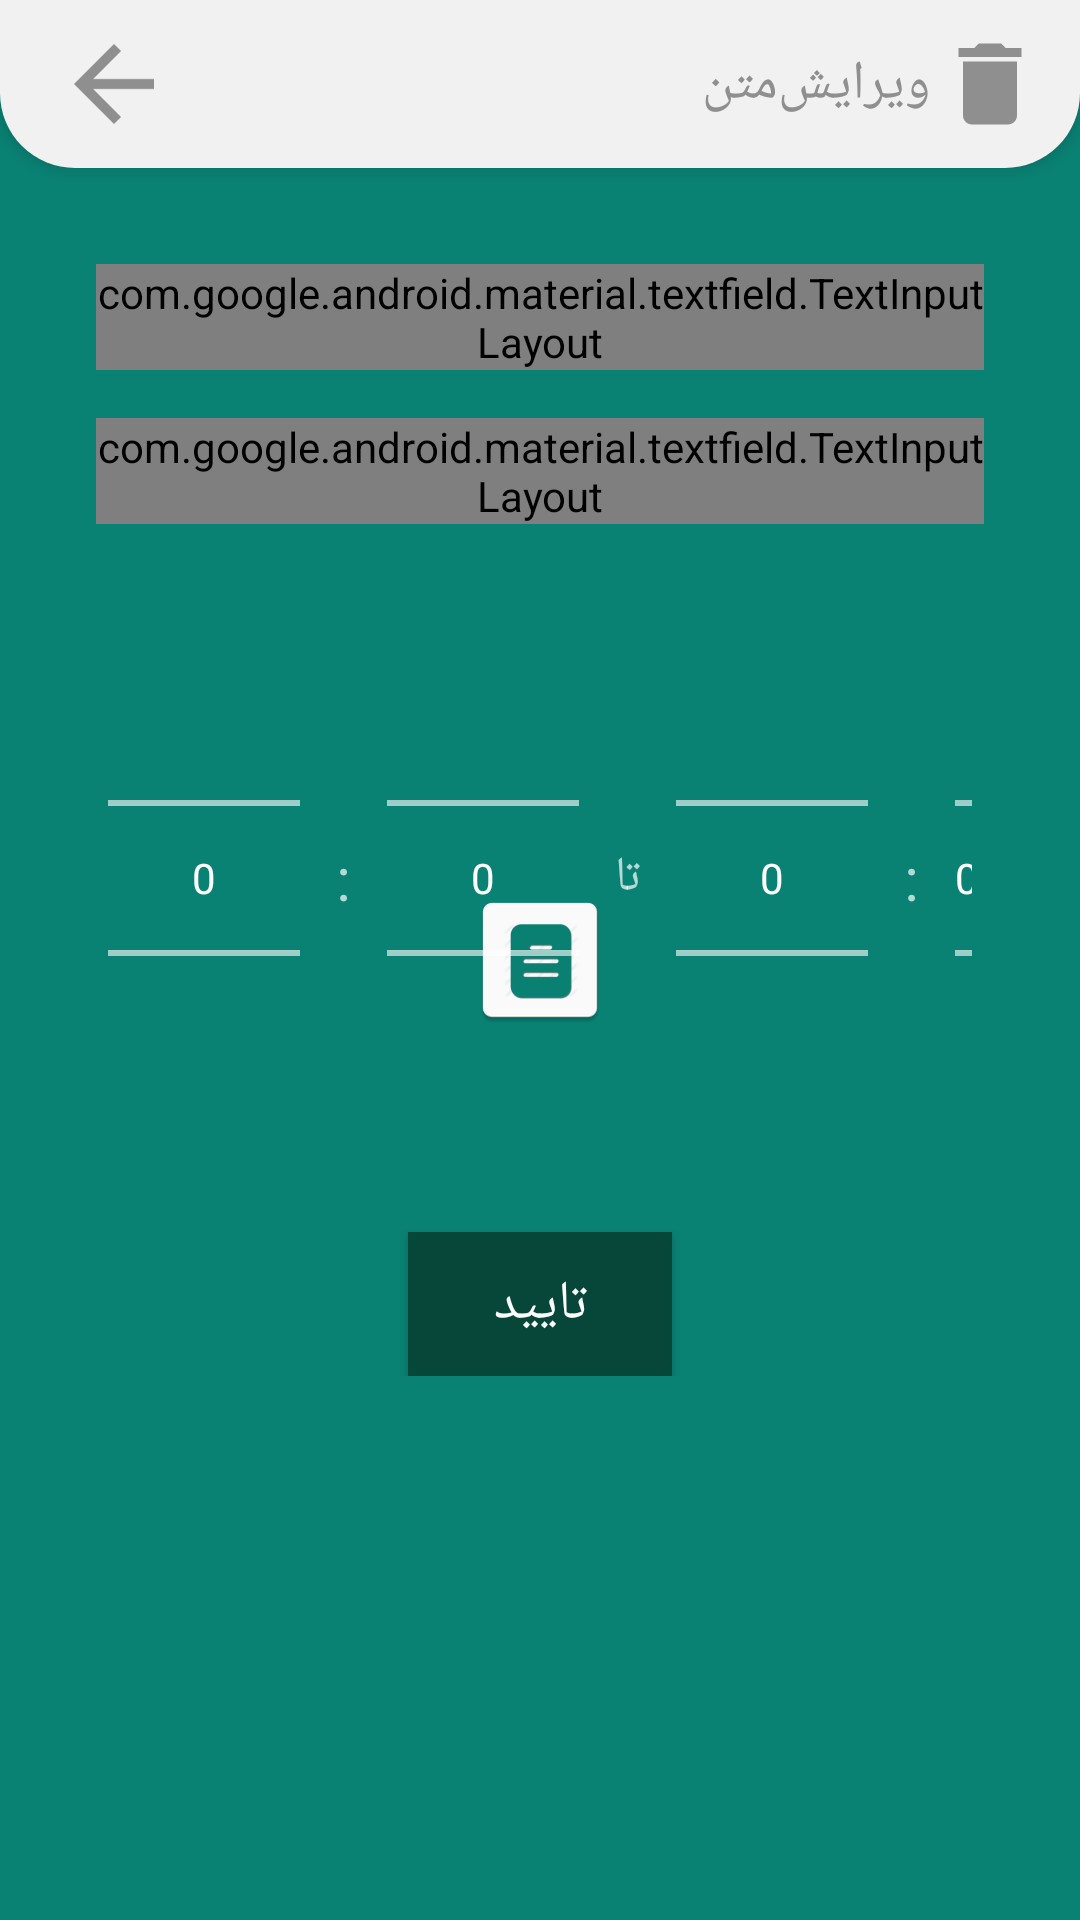

Named icons in this screenshot (1080w x 1920h) and their bounding boxes, bbox(x1, y1, x2, y2):
arrow back: bbox(74, 44, 154, 124)
delete: bbox(958, 43, 1022, 125)
